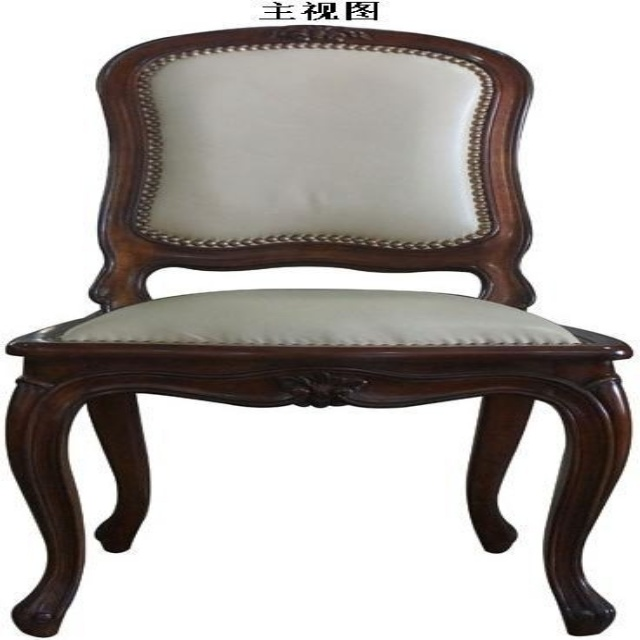obstacle: (7, 26, 630, 635)
